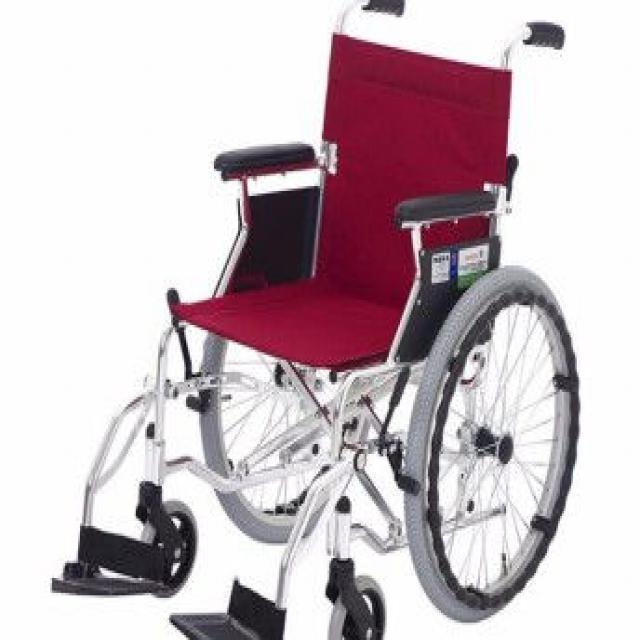wheelchair: (46, 2, 576, 638)
